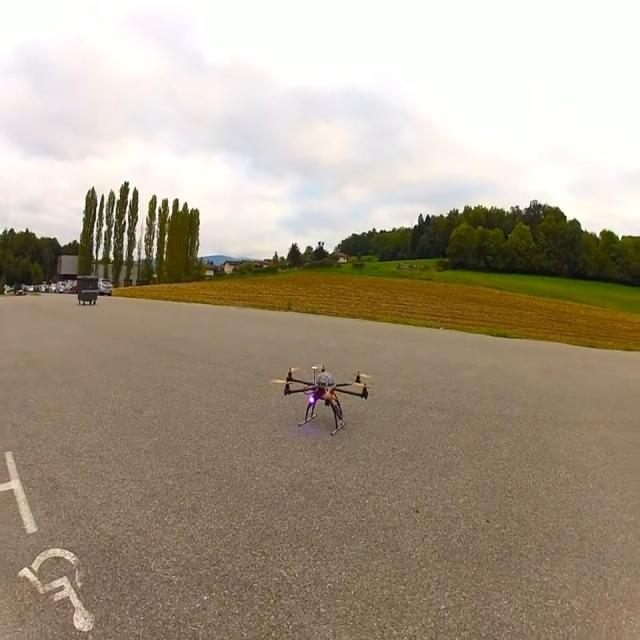drone: (269, 364, 371, 436)
